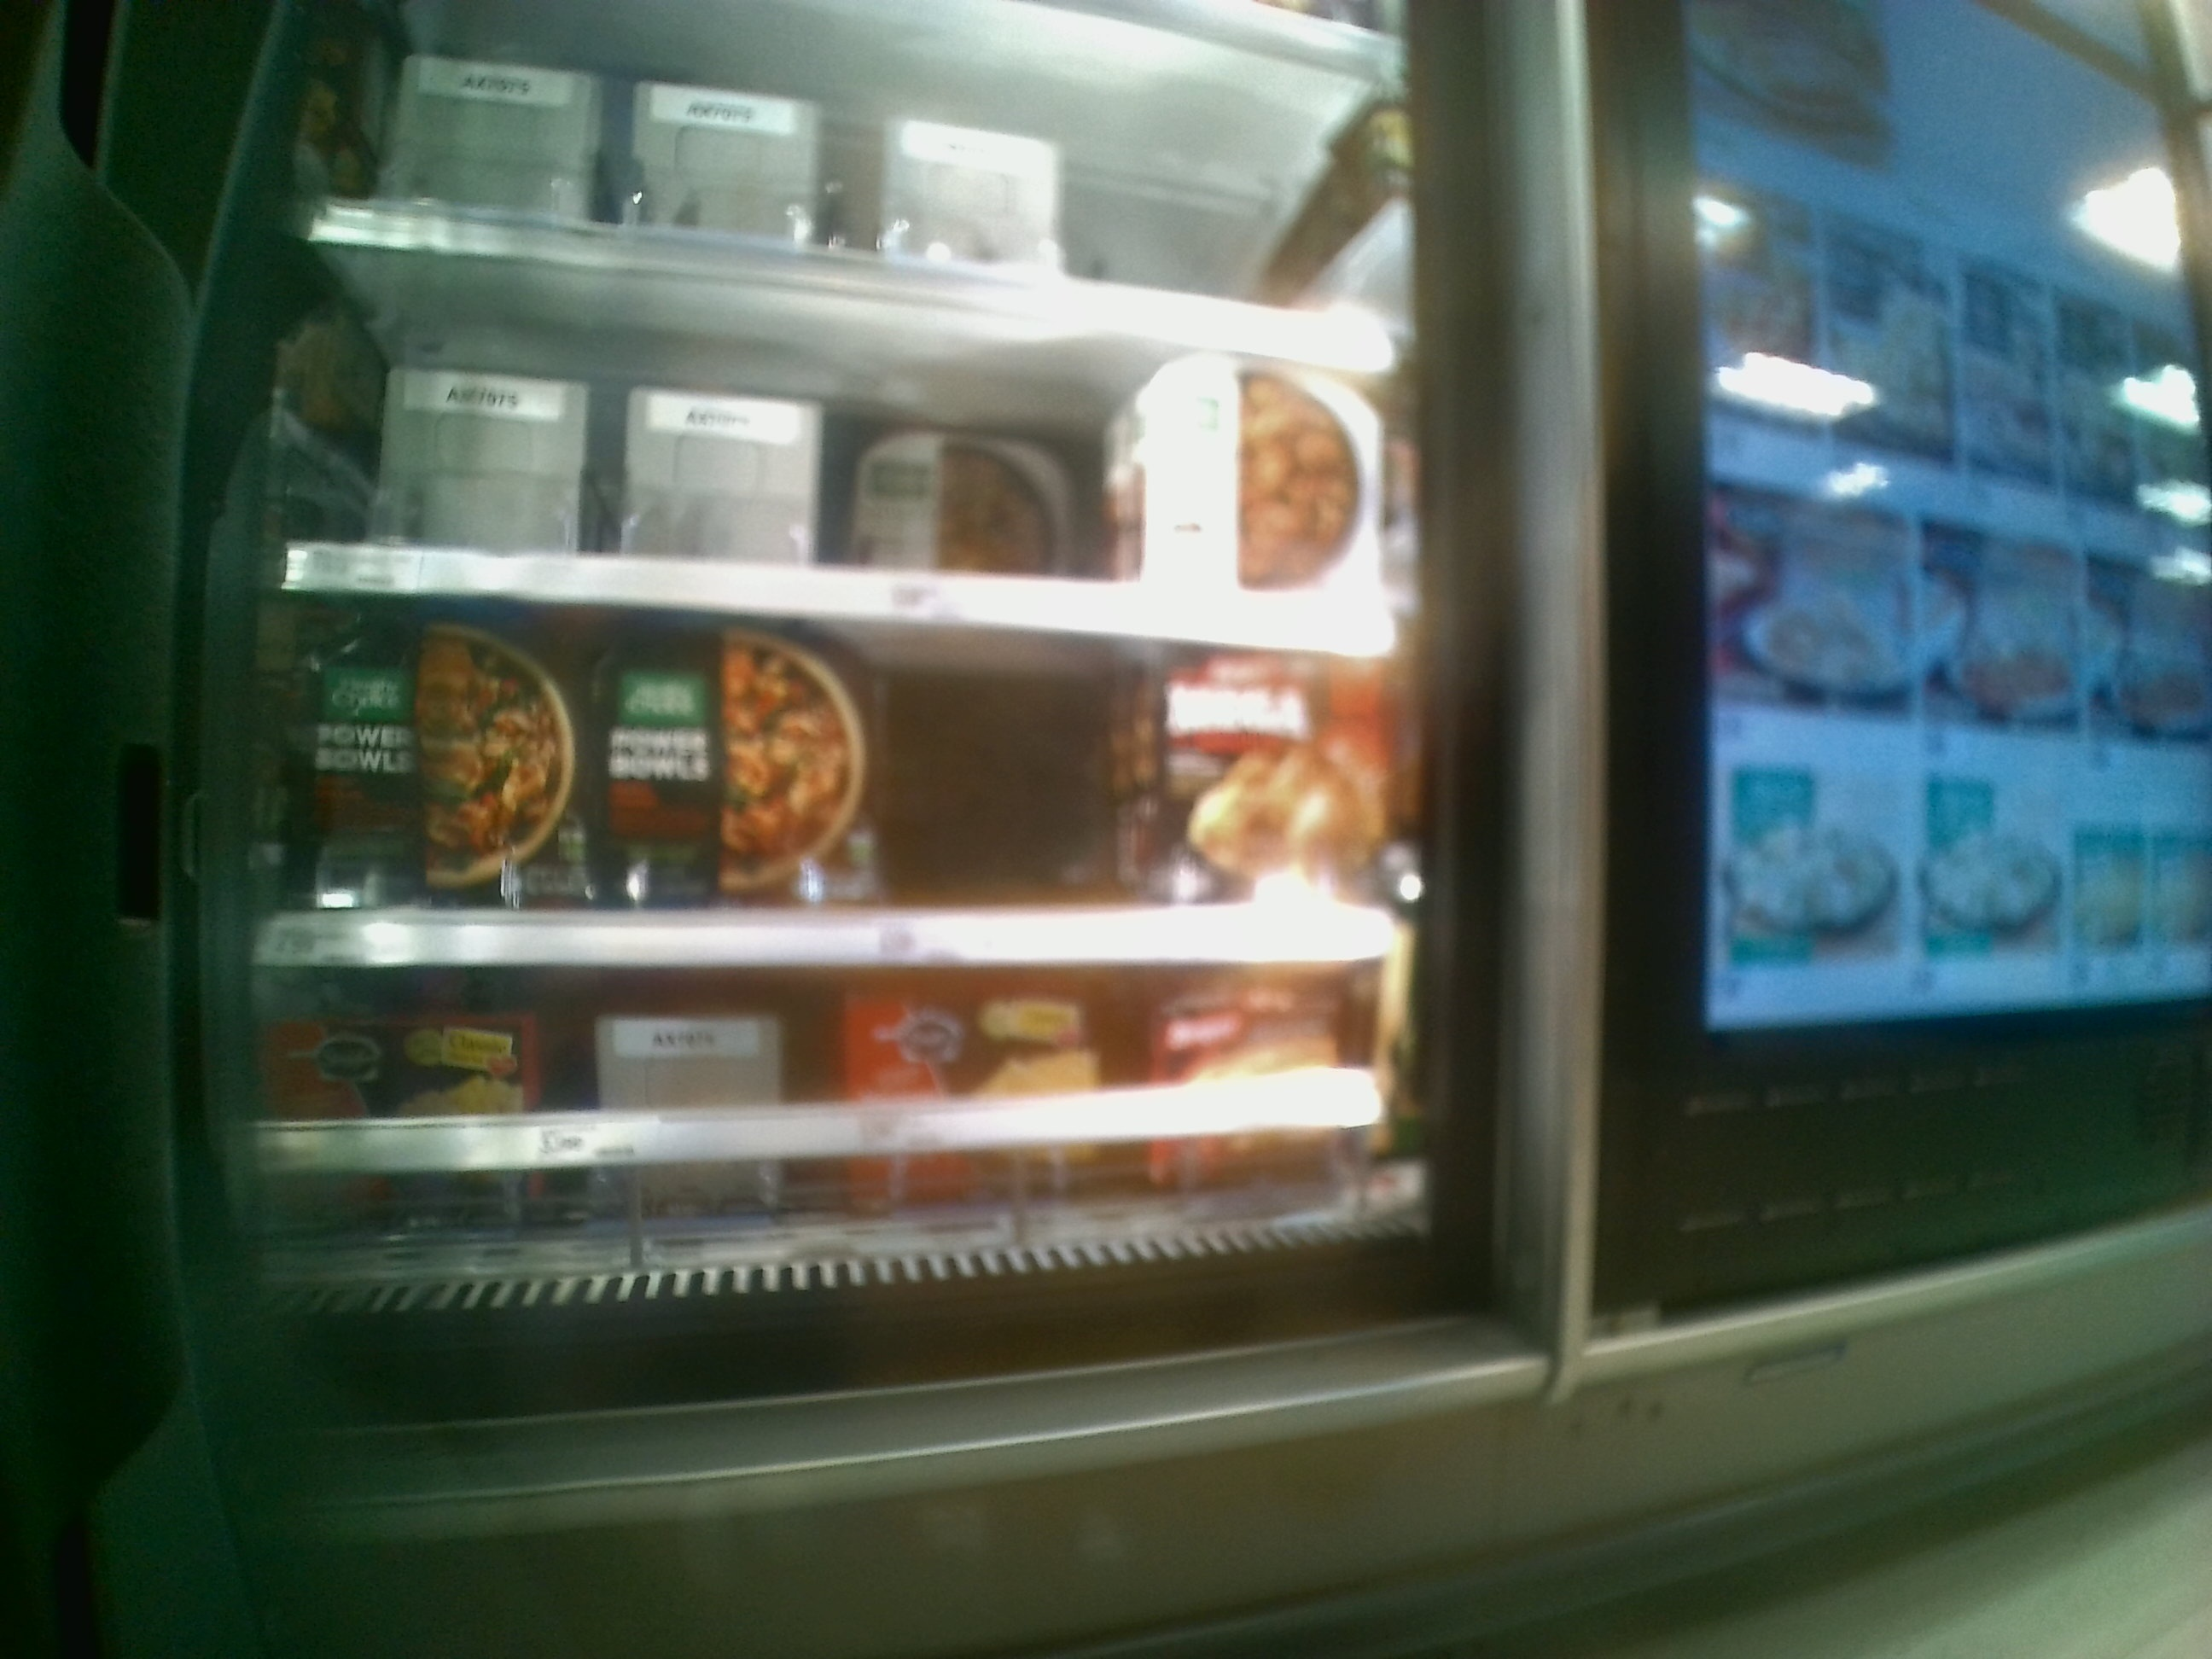shelf: (294, 244, 1404, 652), (273, 596, 1413, 964), (244, 974, 1451, 1314)
